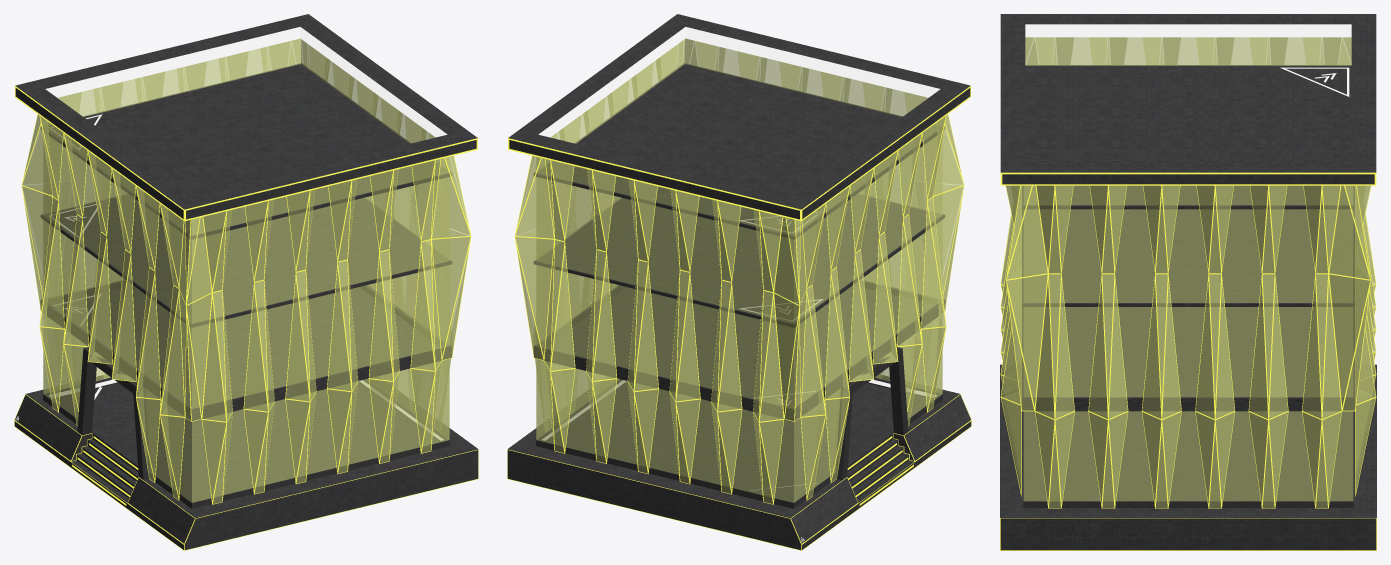
Rendered from Dhingia Builds Yellow 1x1.glb.
3 renders of one model, left to right at view 1: azimuth 30°, elevation 25°; view 2: azimuth 150°, elevation 25°; view 3: azimuth 270°, elevation 25°, orthographic. The views are drawn at different scales.
Parts seen in each view (by area): view 1: Mesh_356, Design 1#1, Mesh_0, Mesh_298, Mesh_101, Mesh_199, Mesh_299, Mesh_357; view 2: Mesh_356, Design 1#1, Mesh_0, Mesh_298, Mesh_101, Mesh_199, Mesh_299, Mesh_357; view 3: Mesh_356, Design 1#1, Mesh_0, Mesh_298, Mesh_101, Mesh_199, Mesh_299, Mesh_357.
Part boxes in pixels (x1,y1,x2,y2): Mesh_356: (43,38,449,502); Design 1#1: (21,39,471,504); Mesh_0: (14,375,478,550); Mesh_298: (41,63,451,239); Mesh_101: (41,281,451,420); Mesh_199: (41,195,451,327); Mesh_299: (15,14,477,221); Mesh_357: (43,347,449,508); Mesh_356: (536,38,942,502); Design 1#1: (514,39,964,504); Mesh_0: (507,375,971,550); Mesh_298: (534,63,944,239); Mesh_101: (534,281,944,420); Mesh_199: (534,195,944,327); Mesh_299: (508,14,970,221); Mesh_357: (536,347,942,508); Mesh_356: (1023,37,1353,501); Design 1#1: (1000,37,1376,508); Mesh_0: (1000,364,1376,550); Mesh_298: (1022,65,1354,209); Mesh_101: (1022,307,1354,411); Mesh_199: (1022,209,1354,306); Mesh_299: (1000,14,1376,185); Mesh_357: (1023,411,1353,507).
Size of what is drawn, in the model's own units: 16 by 17.7 by 16.
6 materials, 1 textured.
